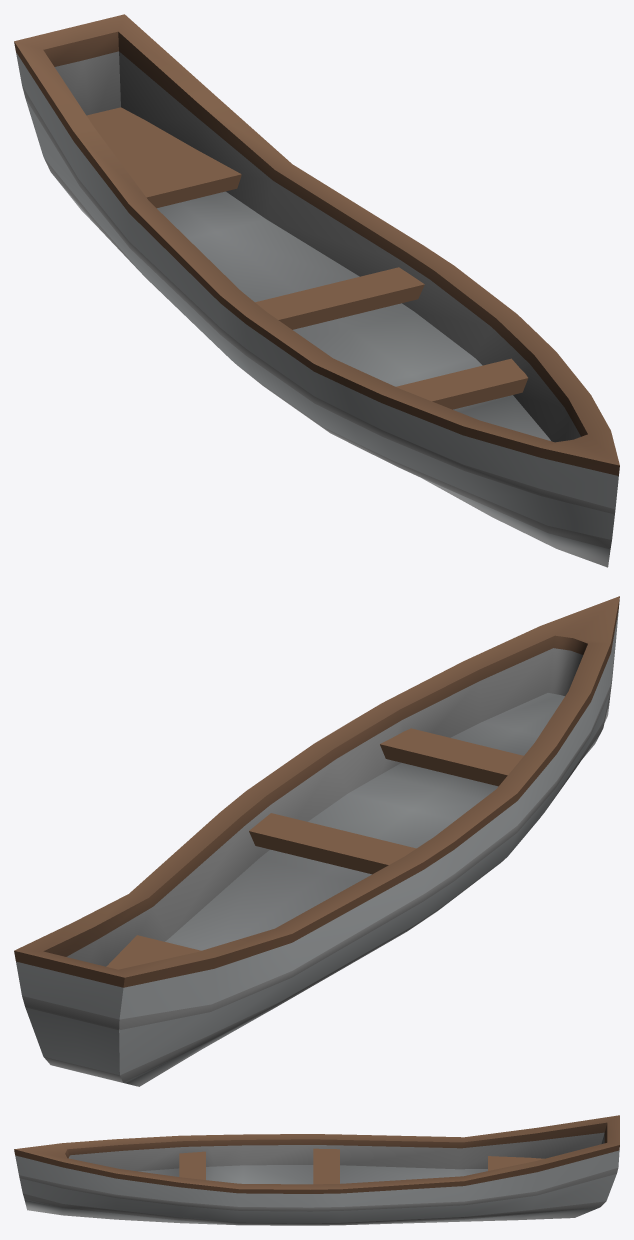
Rendered from vehicles-boats-rowboat_v1.glb.
The picture shows the model from 3 angles, top to bottom: view 1: azimuth 30°, elevation 25°; view 2: azimuth 150°, elevation 25°; view 3: azimuth 270°, elevation 25°; orthographic projection. The views are drawn at different scales.
Visible parts, largest first — view 1: Rowboat.001; view 2: Rowboat.001; view 3: Rowboat.001.
Part boxes in pixels (box(x1,y1,x2,y2)): Rowboat.001: box(14, 14, 619, 567); Rowboat.001: box(14, 596, 619, 1086); Rowboat.001: box(14, 1115, 619, 1225).
Size of the model in its own units: 0.8737 by 0.5838 by 4.
